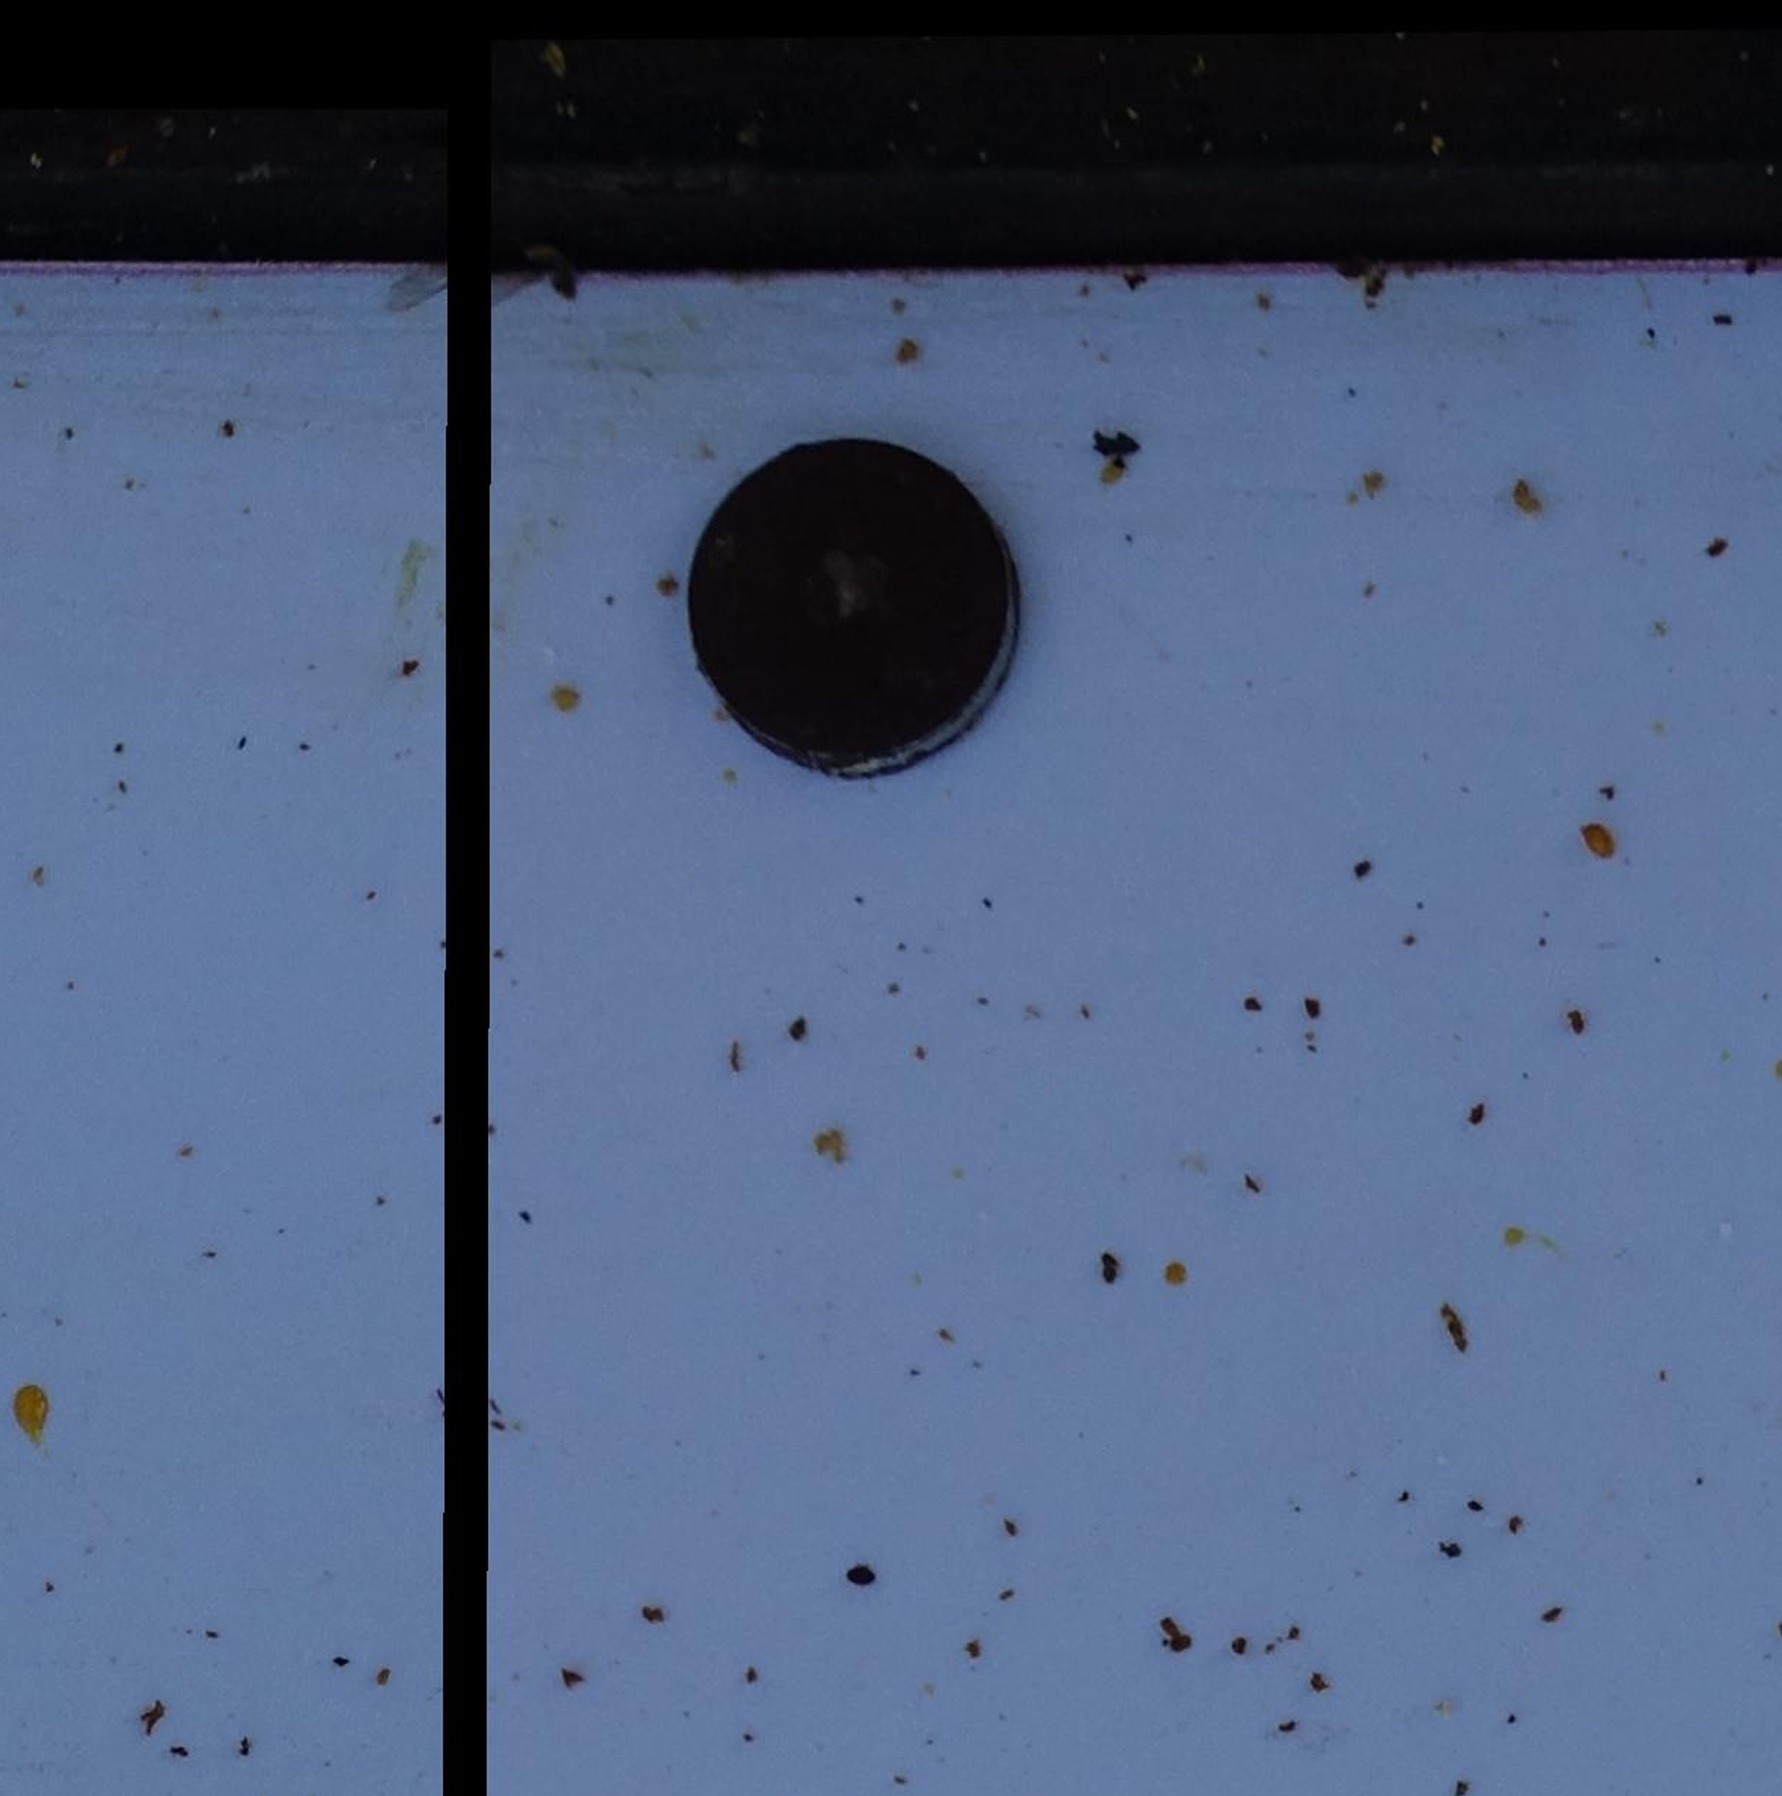Varroa: (844, 1559, 876, 1590)
